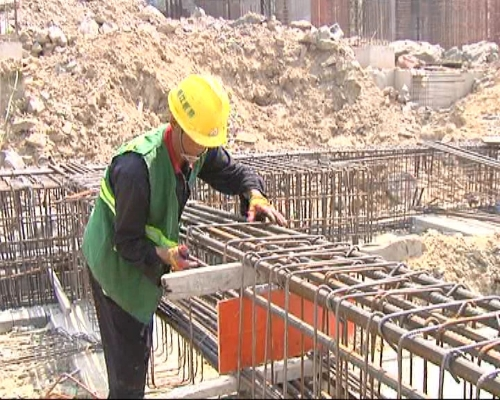gloves: (246, 191, 288, 228), (156, 244, 199, 272)
hard-hat: (167, 74, 230, 148)
person: (80, 73, 289, 399)
vest: (79, 122, 268, 325)
